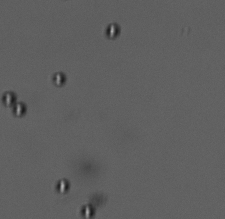Living Cell: (103, 21, 121, 39), (55, 176, 70, 194), (50, 70, 66, 86), (2, 90, 15, 107), (13, 101, 26, 117), (80, 204, 96, 216)
